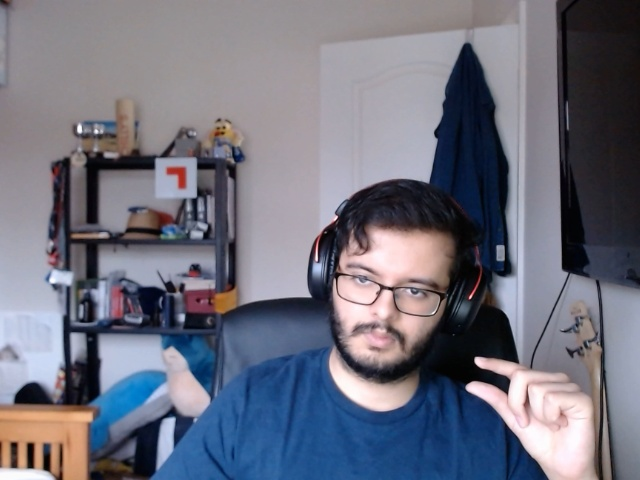Small: (448, 354, 619, 477)
